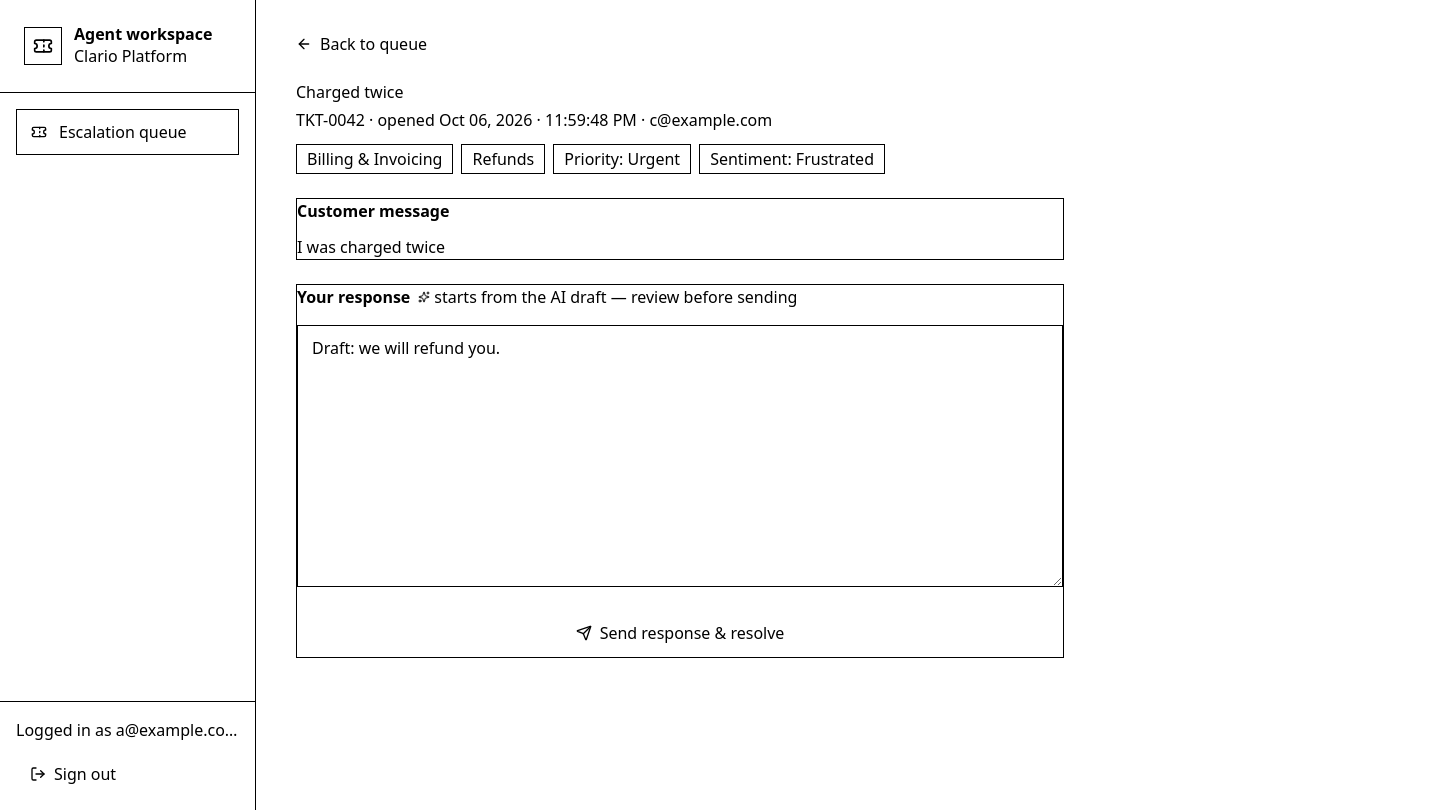
Test: Agent ticket review page (FR-035 / FR-036) › surfaces a 409 conflict and keeps the agent’s text so nothing is lost
The image size is (1440, 810).
Click the button "Send response & resolve" at (680, 633), box [297,609,1063,657]
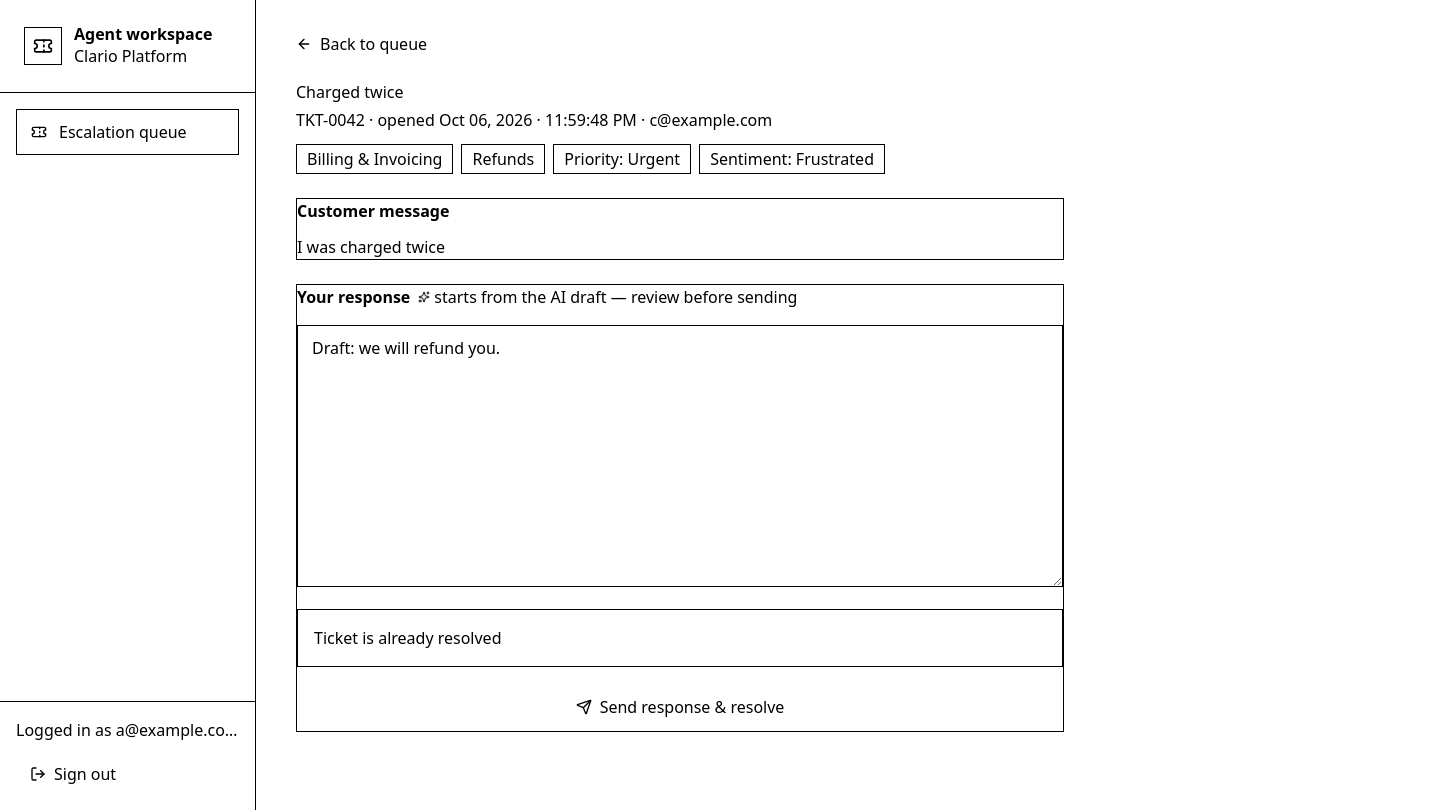
Check: the text box named "Response to the customer" holds "Draft: we will refund you.", box [297,325,1063,587]
Check: the message reads "Ticket is already resolved", box [314,627,502,649]
